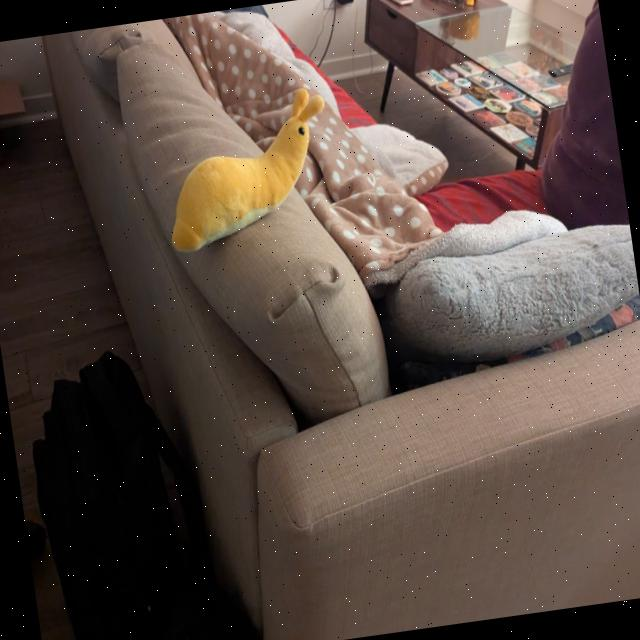banana-slug-toy: (144, 78, 348, 270)
